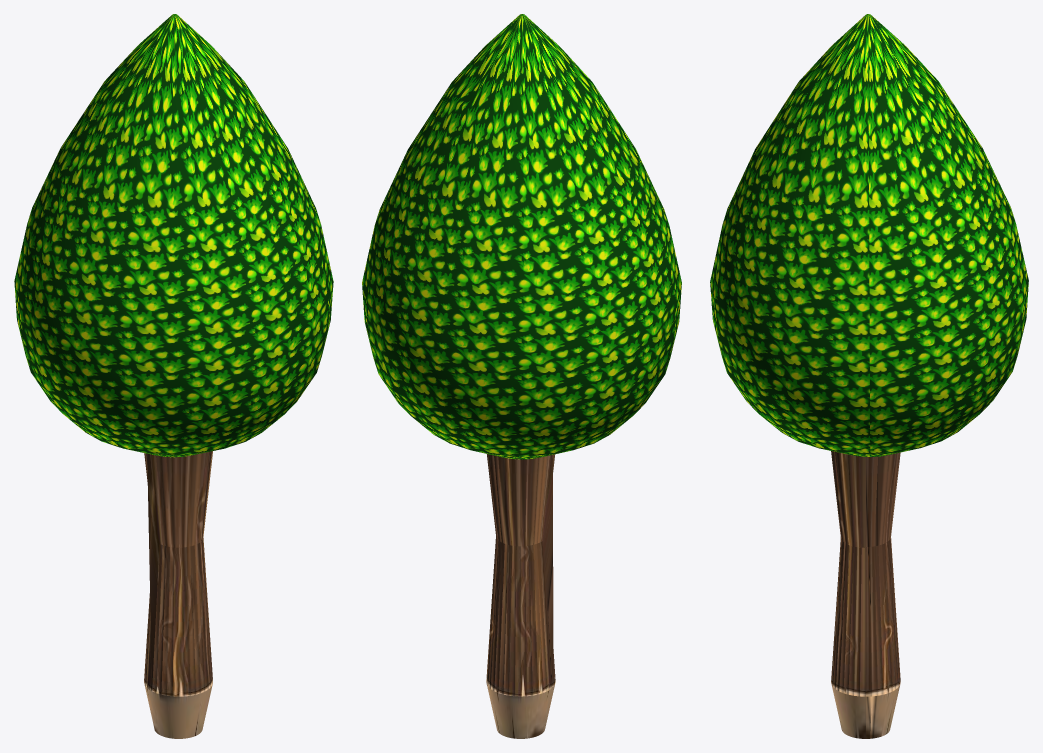
The model's file is tree.FBX.
The picture shows the model from 3 angles, left to right: view 1: azimuth 30°, elevation 25°; view 2: azimuth 150°, elevation 25°; view 3: azimuth 270°, elevation 25°; orthographic projection.
Visible parts, largest first — view 1: Sphere, Cylinder; view 2: Sphere, Cylinder; view 3: Sphere, Cylinder.
Boxes of the visible parts, box(x1,y1,x2,y2) form: Sphere: box(14, 14, 333, 457); Cylinder: box(144, 451, 212, 738); Sphere: box(362, 14, 681, 459); Cylinder: box(486, 454, 555, 738); Sphere: box(710, 14, 1028, 456); Cylinder: box(831, 451, 900, 738).
Bounding box in the file's own units: 3.25 × 8.02 × 3.25.
2 materials, 2 textured.
